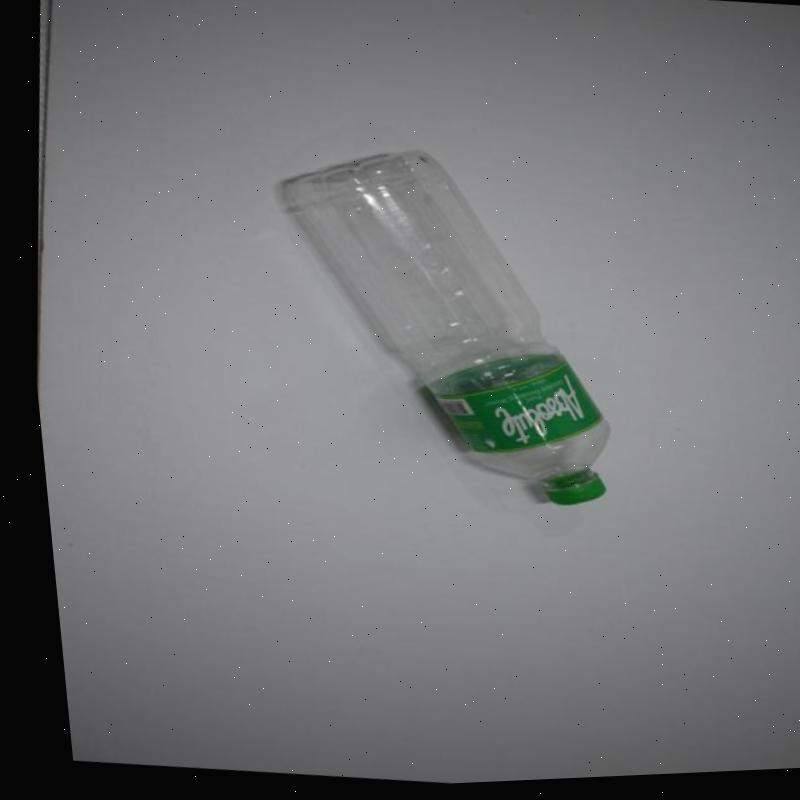botella: (237, 132, 638, 524)
